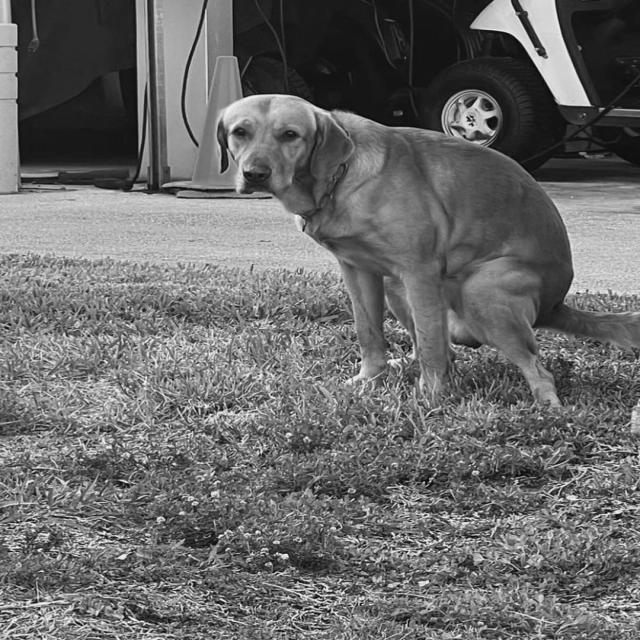squatting: (202, 86, 640, 414)
